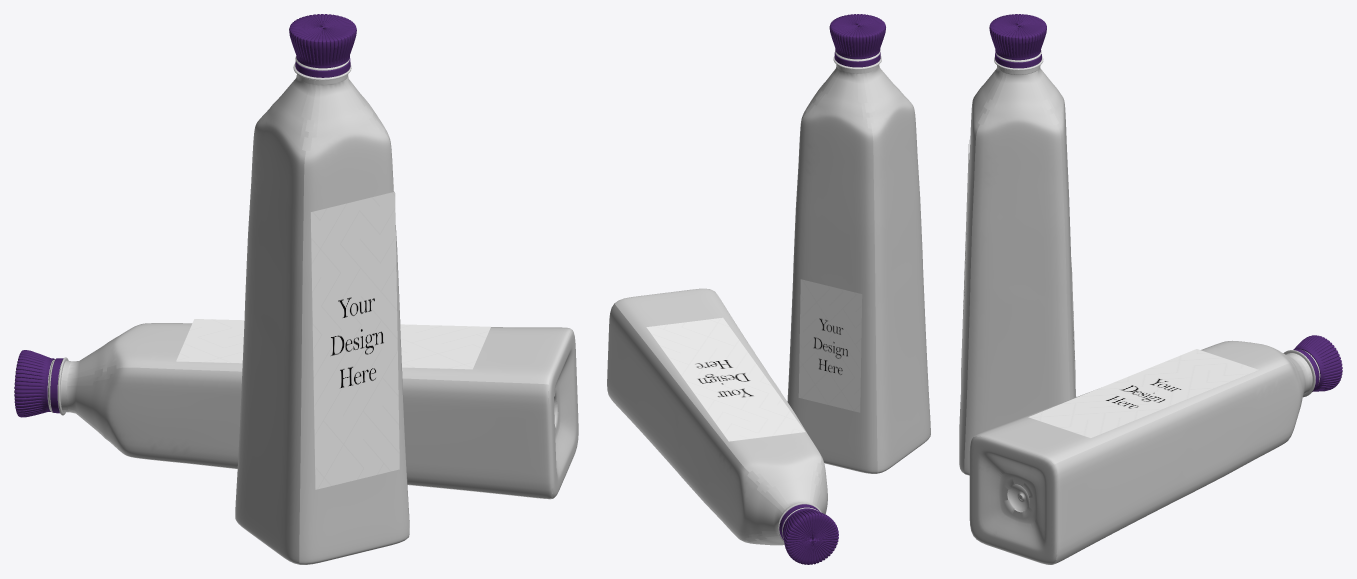
Rendered from Plastic Bottle A-2.glb.
The picture shows the model from 3 angles, left to right: view 1: azimuth 30°, elevation 25°; view 2: azimuth 150°, elevation 25°; view 3: azimuth 270°, elevation 25°; orthographic projection. The views are drawn at different scales.
Visible parts, largest first — view 1: bottle001, bottle001.001, Plane.001, Plane.004, Mesh_1, Mesh_1.001; view 2: bottle001, bottle001.001, Plane.004, Plane.001, Mesh_1.001, Mesh_1; view 3: bottle001.001, bottle001, Plane.004, Mesh_1, Mesh_1.001, Plane.001.
Boxes of the visible parts, bbox=[...] form: bottle001: bbox=[235, 56, 409, 564]; bottle001.001: bbox=[47, 323, 578, 499]; Plane.001: bbox=[311, 192, 399, 489]; Plane.004: bbox=[176, 319, 490, 369]; Mesh_1: bbox=[289, 14, 356, 68]; Mesh_1.001: bbox=[14, 350, 54, 417]; bottle001: bbox=[787, 50, 930, 473]; bottle001.001: bbox=[607, 288, 827, 545]; Plane.004: bbox=[646, 317, 805, 441]; Plane.001: bbox=[798, 279, 862, 412]; Mesh_1.001: bbox=[783, 508, 838, 564]; Mesh_1: bbox=[829, 14, 885, 59]; bottle001.001: bbox=[969, 340, 1320, 564]; bottle001: bbox=[959, 50, 1076, 475]; Plane.004: bbox=[1028, 349, 1258, 437]; Mesh_1: bbox=[989, 14, 1046, 60]; Mesh_1.001: bbox=[1294, 335, 1342, 391]; Plane.001: bbox=[961, 144, 1075, 402].
Bounding box in the file's own units: 2.77 × 3.19 × 2.57.
4 materials, 1 textured.
